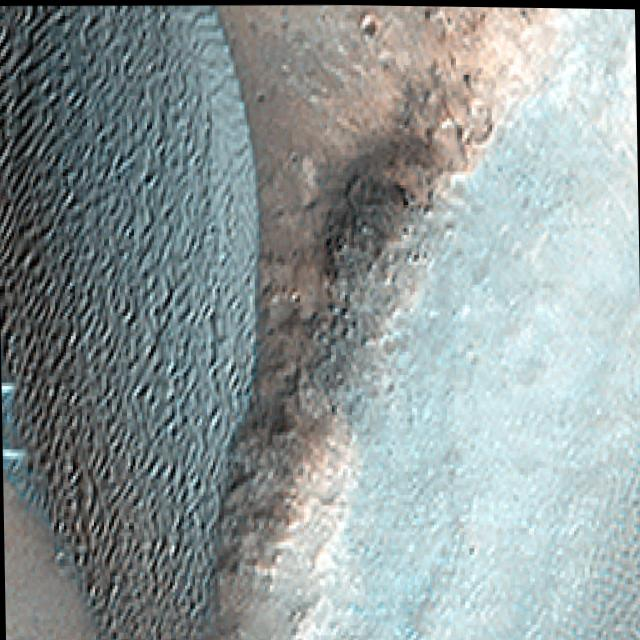Crater: (264, 3, 640, 640)
